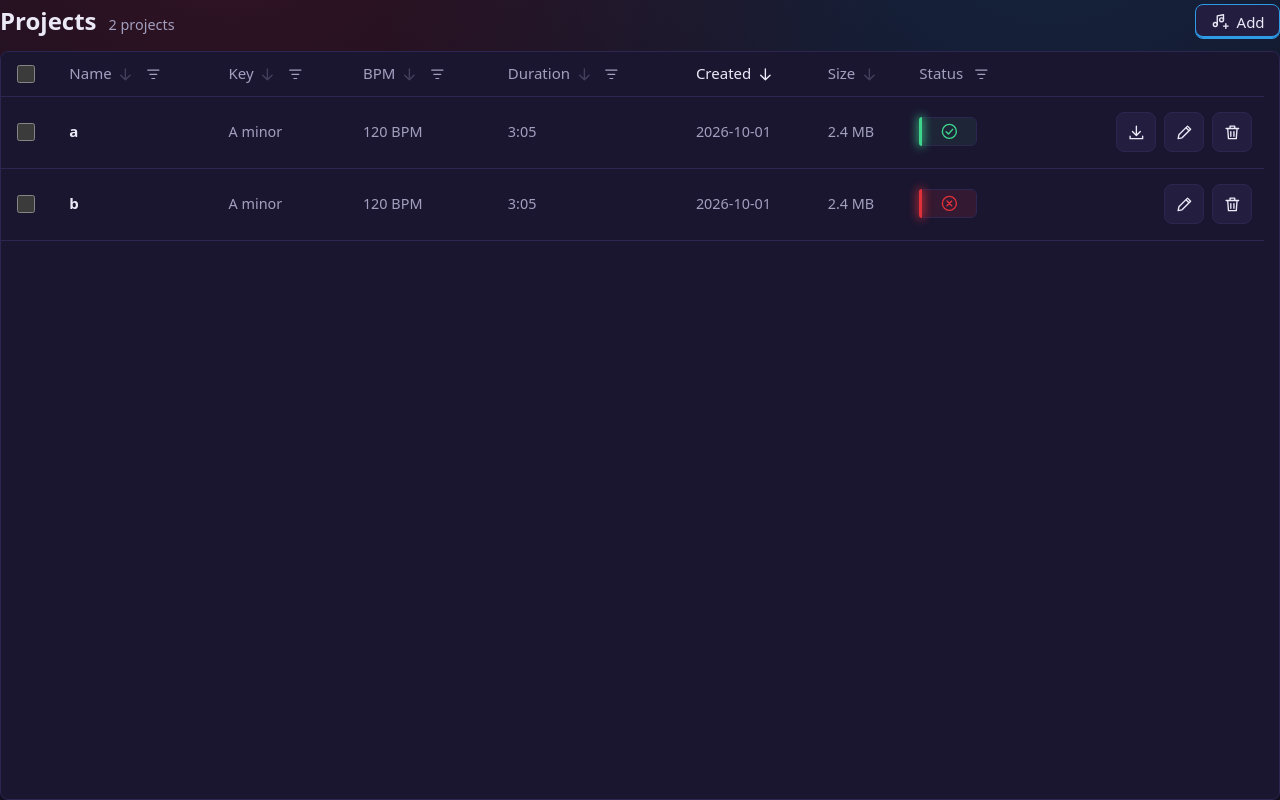
Test: Projects table › debounces the name search by 250 ms
Check: the link "a" is shown, box [69, 121, 78, 141]
Click the button named "Filter Name" at x=153, y=74, box [139, 60, 167, 88]
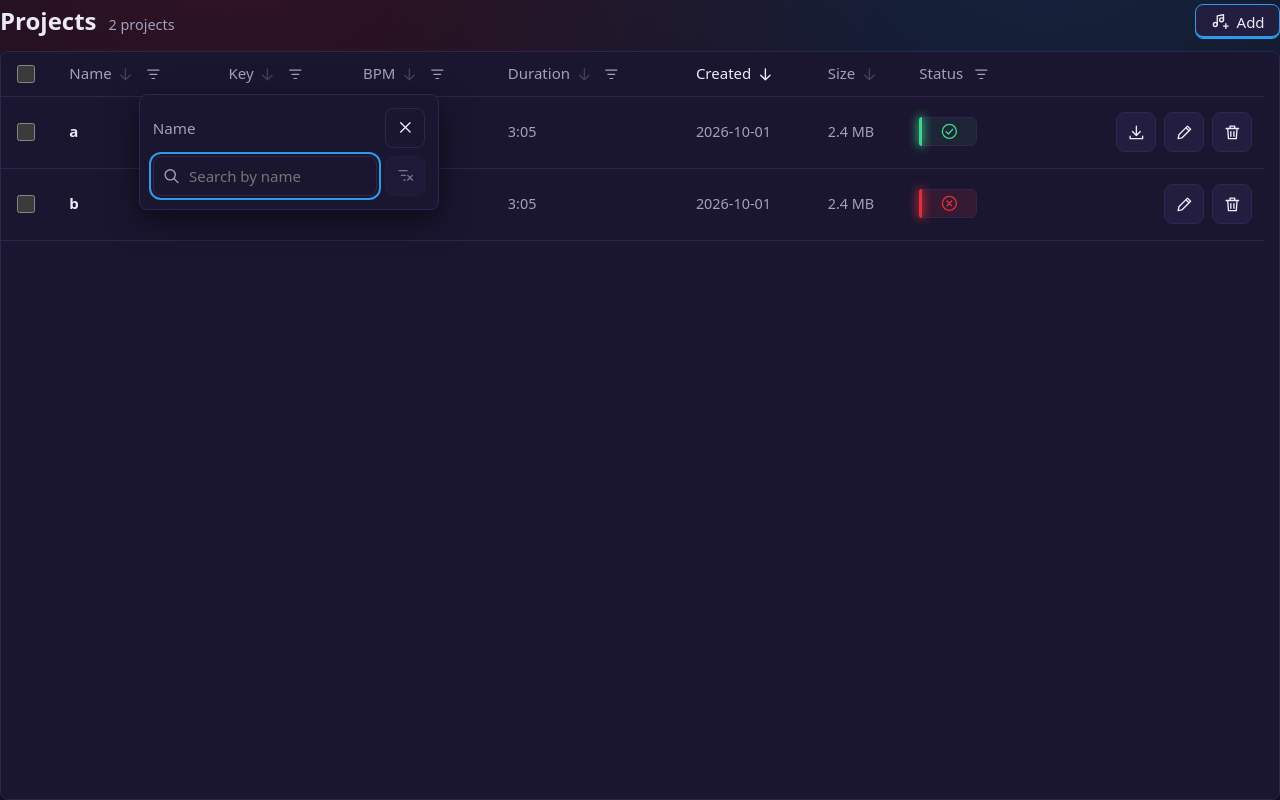
Type "ab" into the search field labelled "Search by name" at x=265, y=176, box [153, 156, 377, 196]
Wait 250 ms
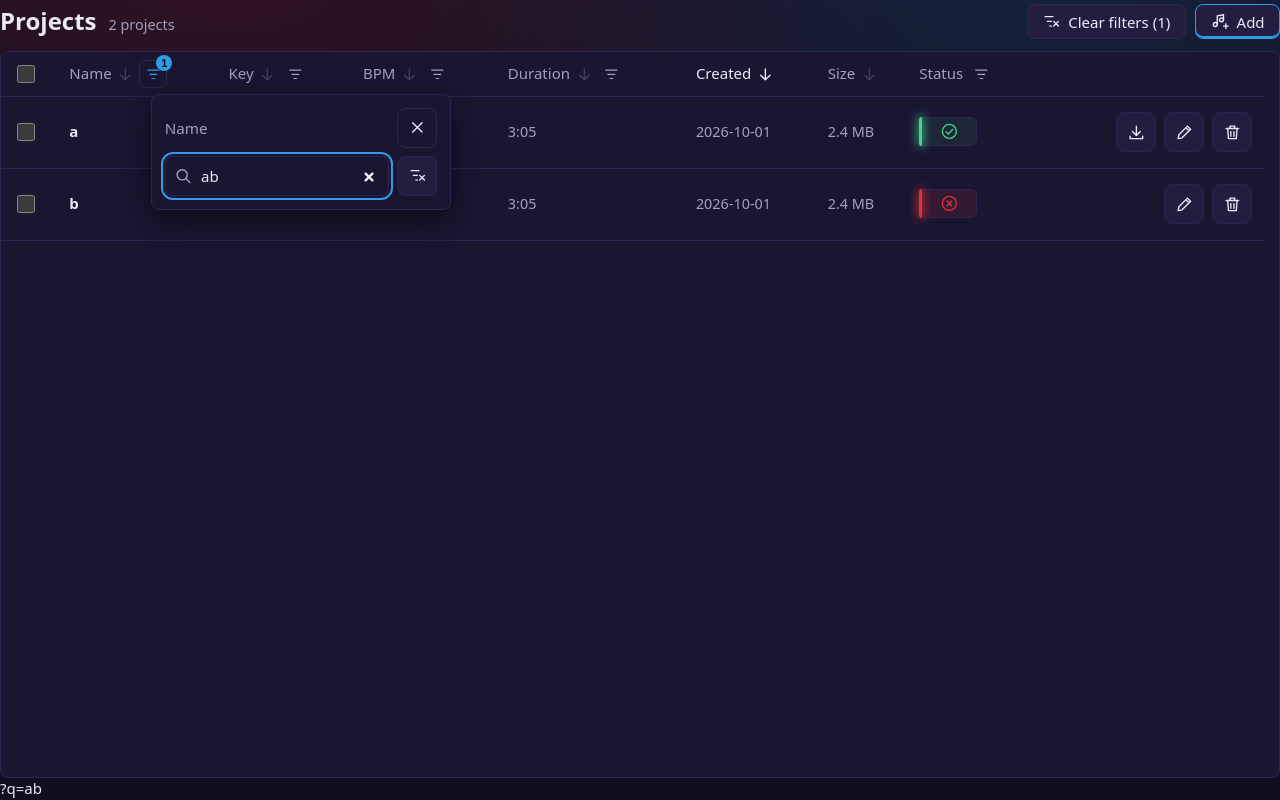
Check: the text with test id "url" shows "q=ab", box [0, 778, 42, 798]
